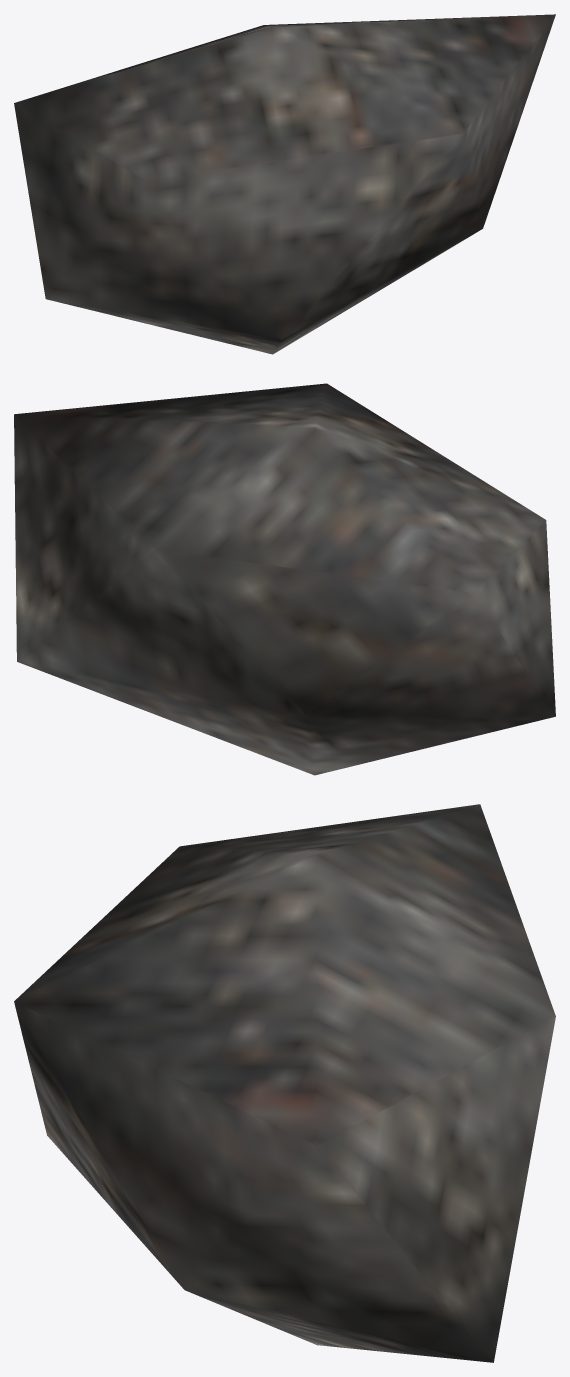
File: SM_HarvestRock_Chip02.fbx
The picture shows the model from 3 angles, top to bottom: view 1: azimuth 30°, elevation 25°; view 2: azimuth 150°, elevation 25°; view 3: azimuth 270°, elevation 25°; orthographic projection. The views are drawn at different scales.
Parts seen in each view (by area): view 1: SM_HarvestRock_Chip02; view 2: SM_HarvestRock_Chip02; view 3: SM_HarvestRock_Chip02.
Boxes of the visible parts, x1,y1,x2,y2 form: SM_HarvestRock_Chip02: (14, 14, 555, 354); SM_HarvestRock_Chip02: (14, 383, 555, 775); SM_HarvestRock_Chip02: (14, 804, 555, 1362).
Bounding box in the file's own units: 32.06 × 19.68 × 19.63.
Materials: 1 (1 with a texture image).
